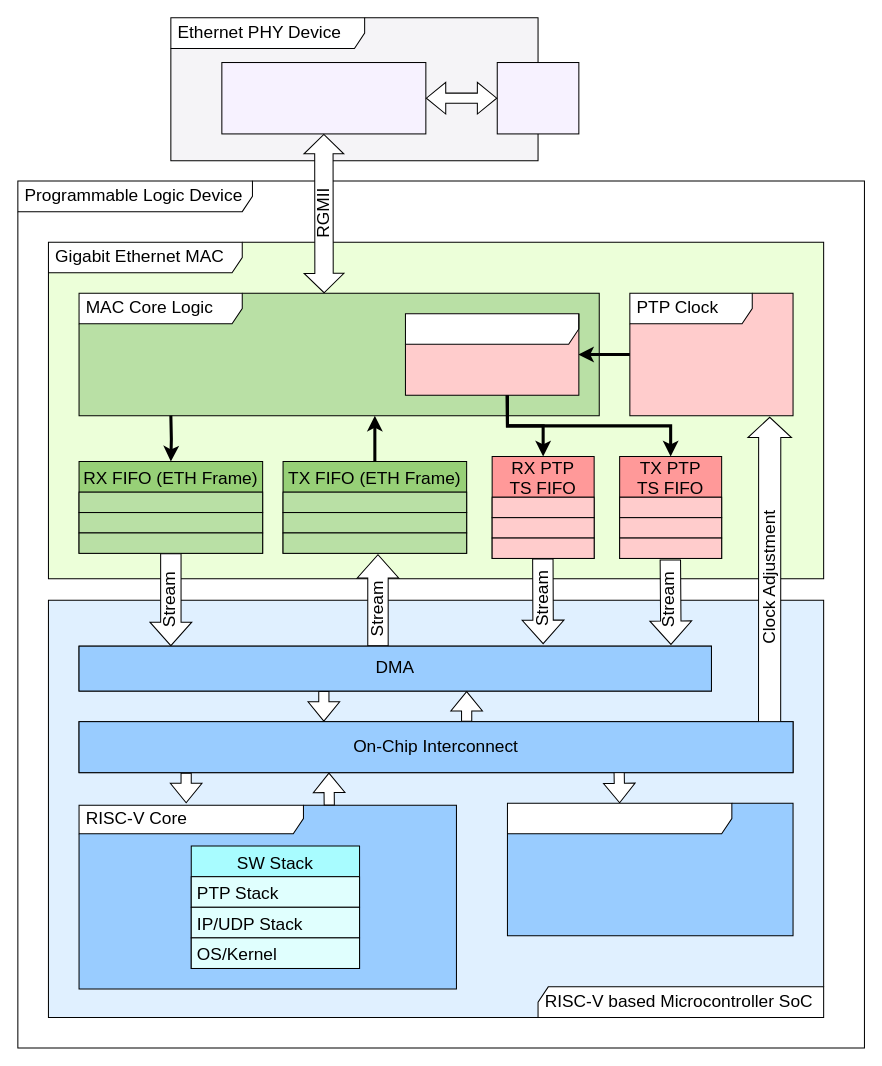
Image size: 882x1066. Some labels were removed from this diagram. Here are the shapes that lost their labels. From the top down, the centre of each, then its label:
point 323,98: Gigabit Ethernet PHY
point 537,98: RJ-45
point 491,354: Time Stamping Unit
point 649,869: On-Chip Memory
